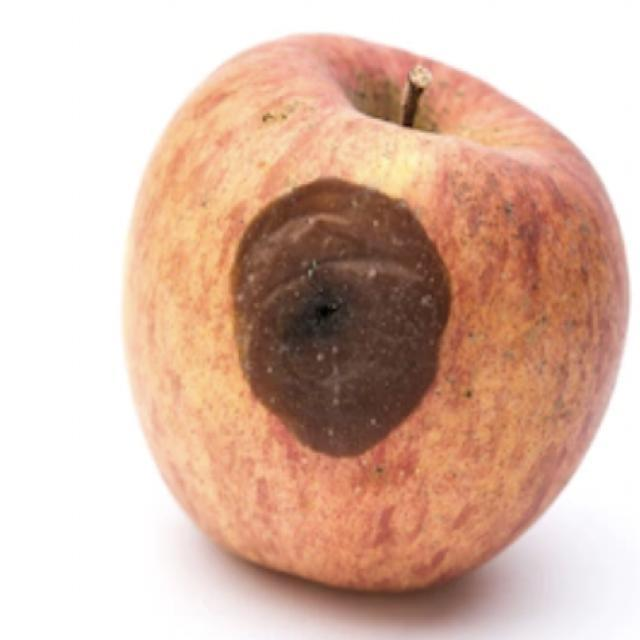Rotten: (133, 37, 602, 610)
